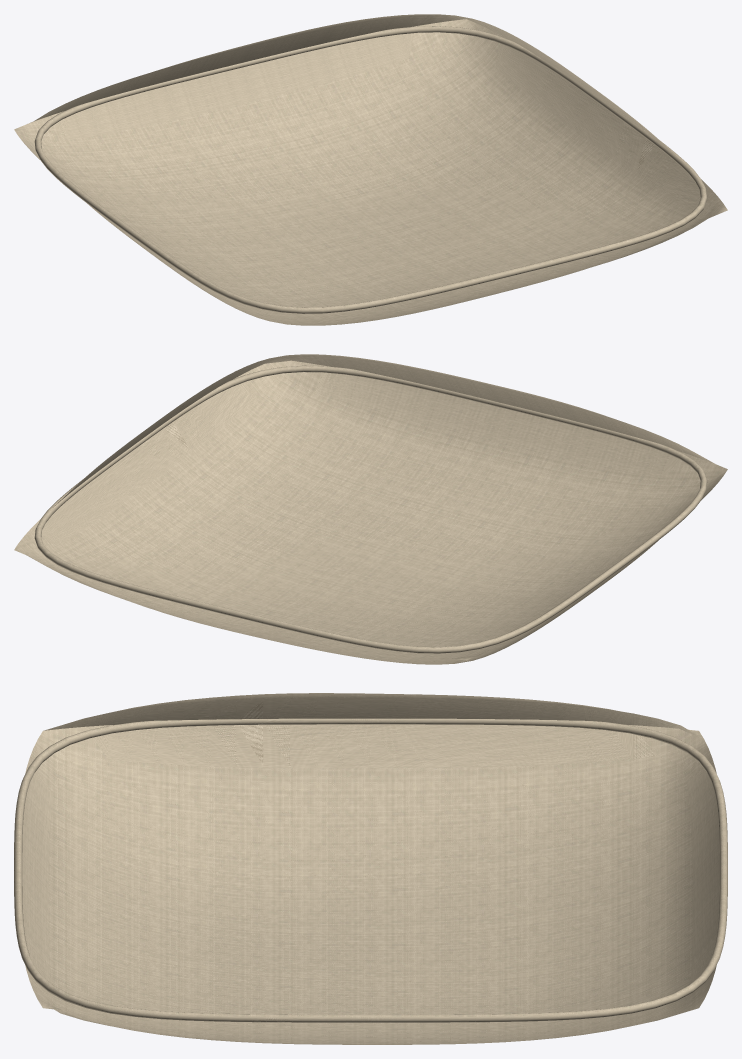
Rendered from objects-cushion.glb.
3 renders of one model, top to bottom at view 1: azimuth 30°, elevation 25°; view 2: azimuth 150°, elevation 25°; view 3: azimuth 270°, elevation 25°, orthographic. The views are drawn at different scales.
Visible parts, largest first — view 1: cushion_cover, piping; view 2: cushion_cover, piping; view 3: cushion_cover, piping.
Boxes of the visible parts, x1,y1,x2,y2 form: cushion_cover: [14, 14, 727, 325]; piping: [34, 26, 707, 313]; cushion_cover: [14, 354, 727, 664]; piping: [34, 365, 707, 653]; cushion_cover: [22, 693, 719, 1044]; piping: [14, 718, 727, 1022].
Size of the model in its own units: 0.506 by 0.1498 by 0.506.
Materials: 1 (1 with a texture image).
